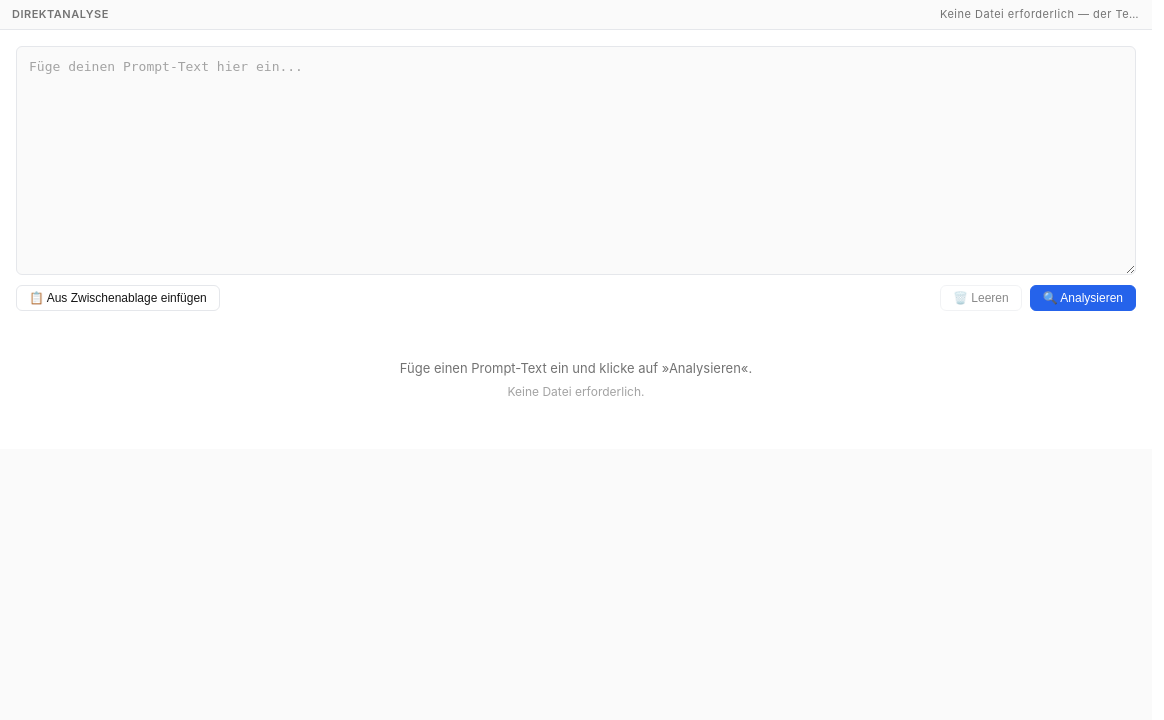
Test case: PastePromptAnalyzer › analyses valid input and shows results
The width and height of the screenshot is (1164, 720).
Type "A test prompt for analysis." into the text box with placeholder "Füge deinen Prompt-Text hier ein...".
click(576, 160); type("A test prompt for analysis.")  # box [16, 46, 1136, 276]
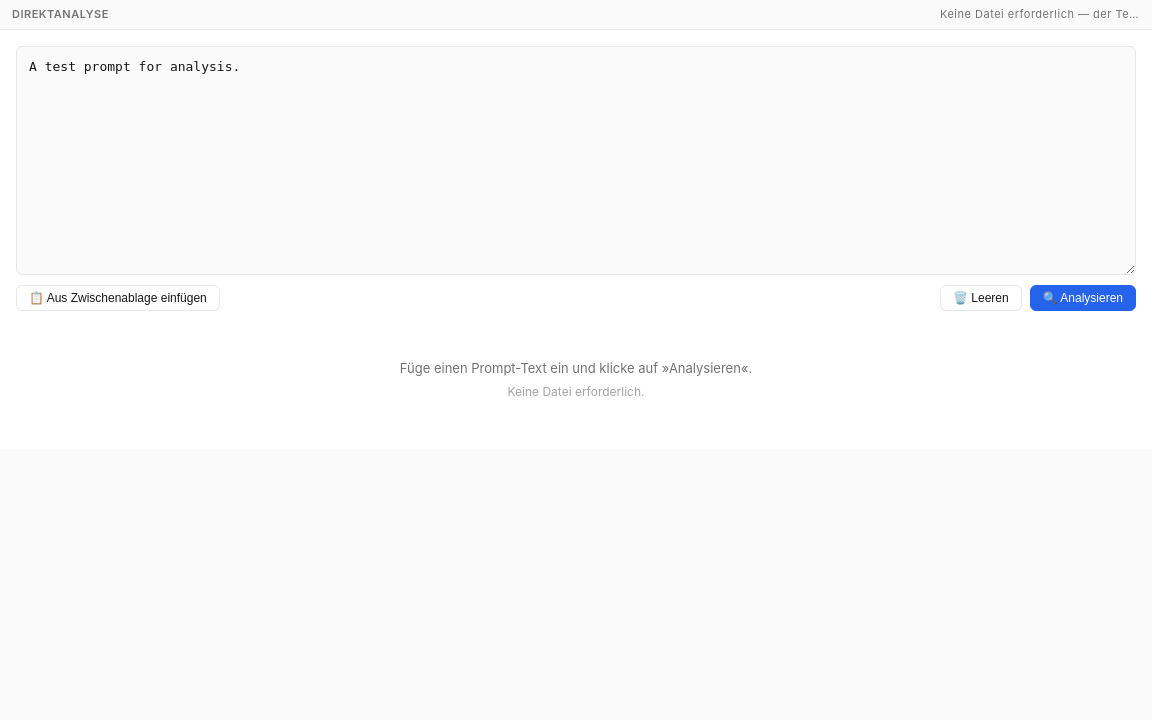
Click the button "🔍 Analysieren".
click(1083, 298)  # box [1030, 286, 1136, 312]
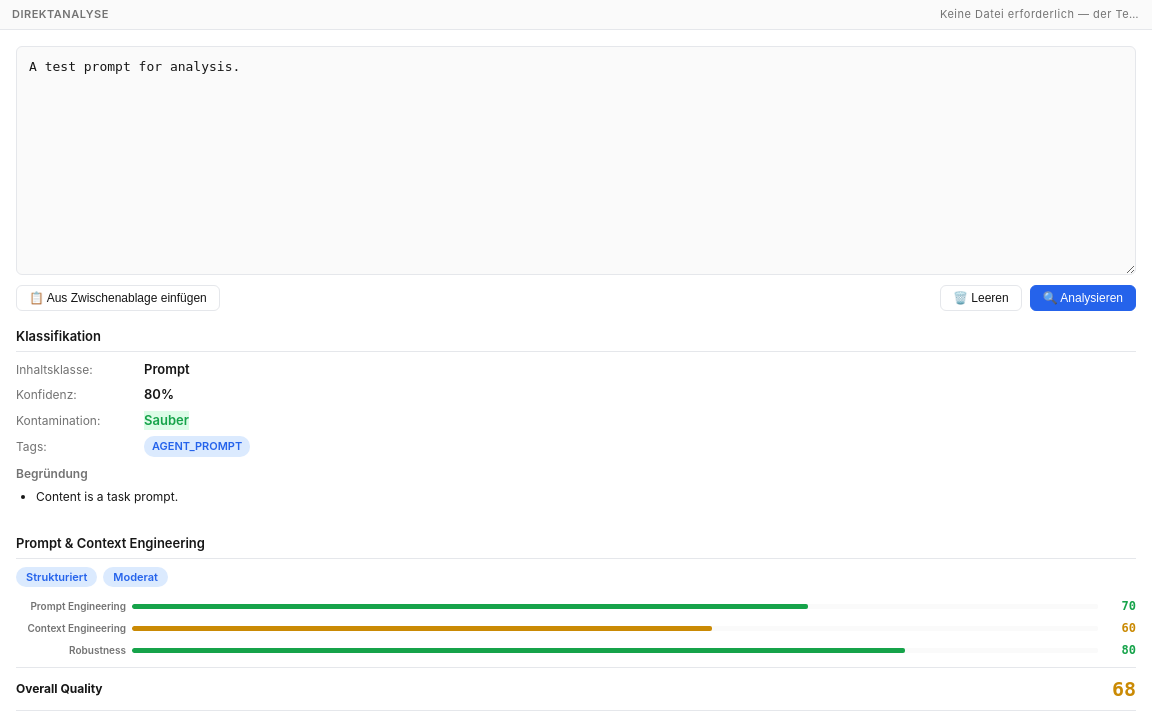
Expected: the heading "Klassifikation" is shown, [16, 328, 1136, 352]
